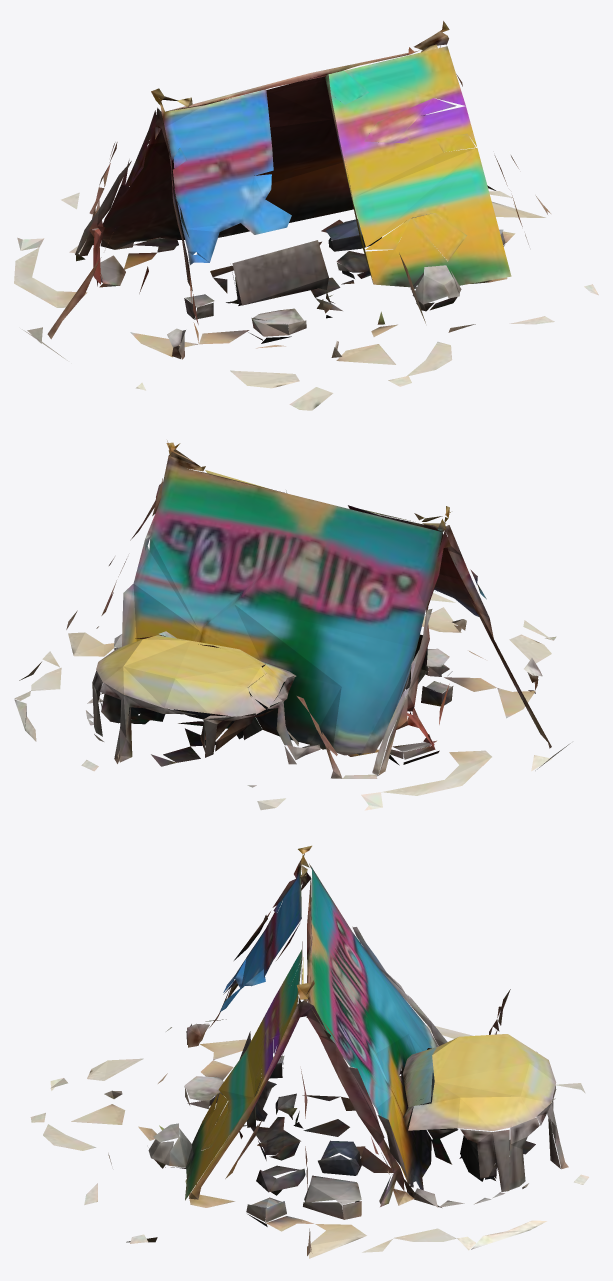
Rendered from tent.glb.
The picture shows the model from 3 angles, top to bottom: view 1: azimuth 30°, elevation 25°; view 2: azimuth 150°, elevation 25°; view 3: azimuth 270°, elevation 25°; orthographic projection. The views are drawn at different scales.
Parts seen in each view (by area): view 1: geometry_0; view 2: geometry_0; view 3: geometry_0.
Part boxes in pixels (x1,y1,x2,y2): geometry_0: [14, 21, 598, 410]; geometry_0: [14, 440, 570, 810]; geometry_0: [30, 845, 588, 1258].
Bounding box in the file's own units: 0.9886 × 0.4364 × 0.9698.
1 material, 1 textured.
